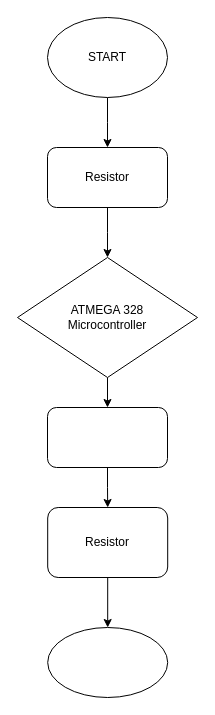
Some shapes in this 215 by 715 pixel diagram are drawn without their labels. The centre of each missing label's shape, as x and y in pixels:
"LED" belongs at point 107,437.
"STOP" belongs at point 107,662.
